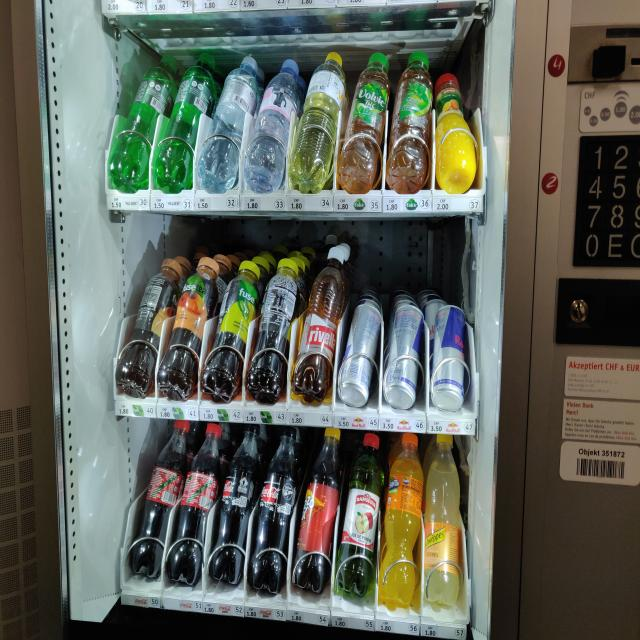coke__flasche_50__54491472: (135, 420, 185, 569), (180, 421, 221, 579)
coke_zero_flasche_50__5449000131836: (214, 429, 258, 582), (259, 433, 297, 593)
evian___50__3068320353500: (255, 56, 296, 182)
fanta___50__40822938: (384, 428, 422, 610)
fuse_lemon__50__5449000235947: (215, 261, 257, 390), (255, 264, 291, 391)
fuse_peach__50__5449000236623: (122, 255, 178, 386), (171, 259, 212, 386)
granini_orange__50__: (436, 72, 481, 192)
mezzomix___50__54490840: (300, 432, 336, 578)
ramseier_jusdepomme__50__7610057001078: (342, 434, 381, 597)
redbull___33__90162909: (428, 301, 472, 413), (382, 304, 426, 410), (342, 304, 382, 402)
rivella_rot__50__7610097111072: (298, 253, 342, 393)
schweppes_citrus__50__: (426, 433, 462, 605)
valser_classic__50__76404160: (110, 52, 164, 187), (167, 60, 214, 183)
valser_still__50__7610335002575: (210, 56, 255, 192)
valser_vivabirne__50__7610335001530: (296, 52, 343, 187)
volvic_teeminze__50__3057640335648: (388, 50, 435, 185), (344, 47, 388, 190)
